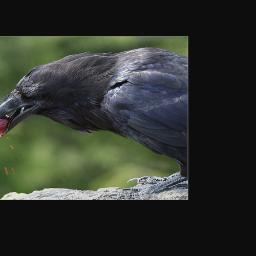Crow: (0, 46, 188, 200)
